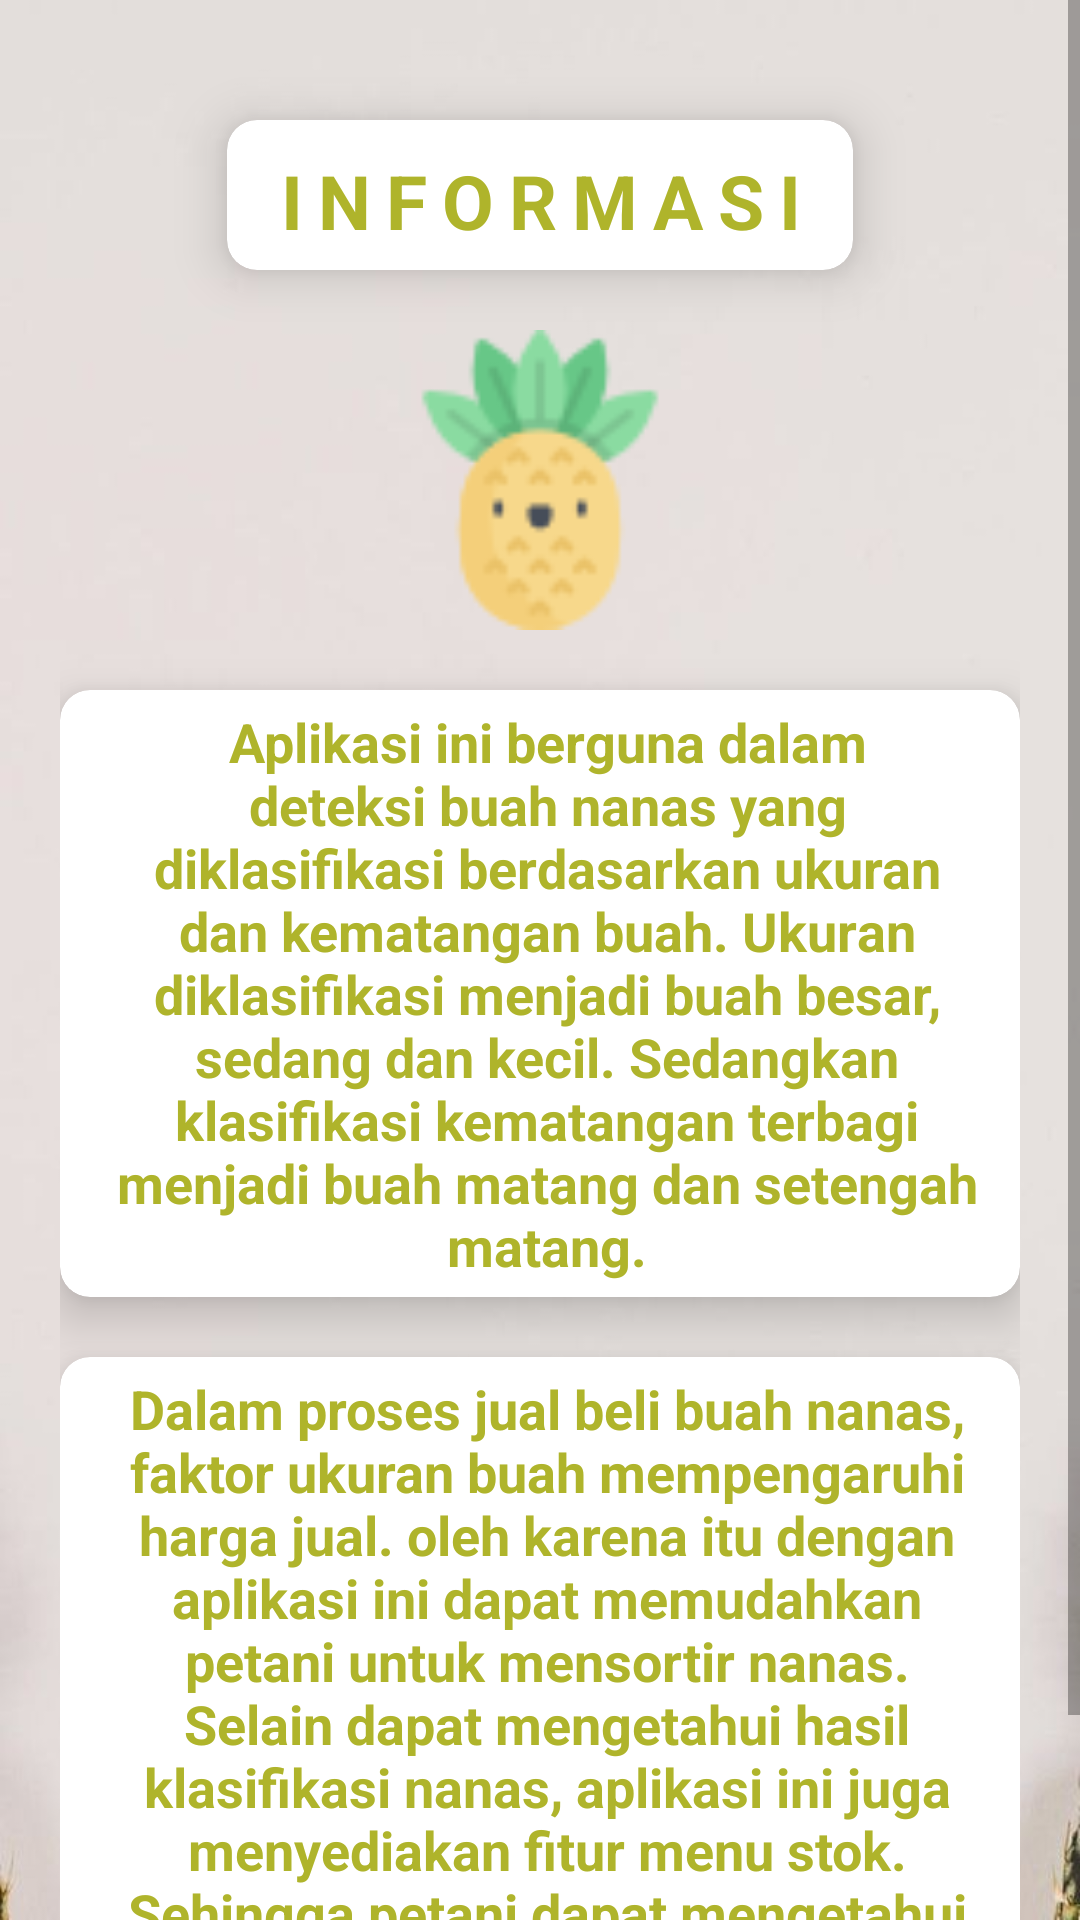

Icons on this 1080x1920 Android screen, each with its box as (x1,y1,x2,y2):
pineapple: (422,330,658,630)
